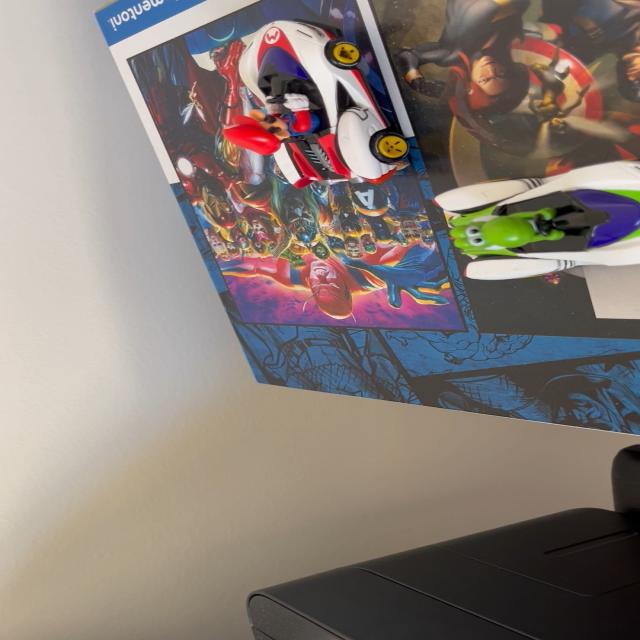mario: (212, 10, 426, 197)
yoshi: (426, 152, 640, 293)
